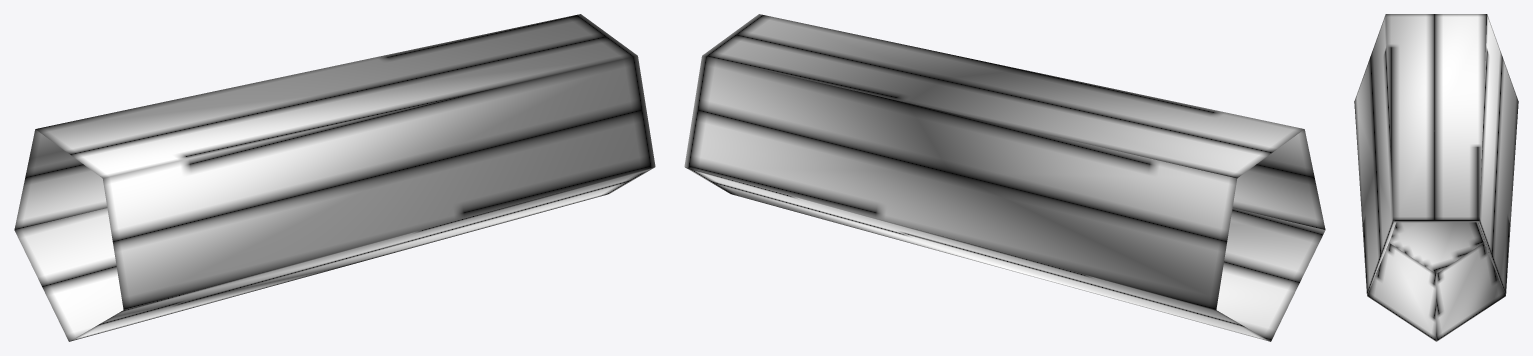
File: triebwerk_u.obj
3 renders of one model, left to right at view 1: azimuth 30°, elevation 25°; view 2: azimuth 150°, elevation 25°; view 3: azimuth 270°, elevation 25°, orthographic. The views are drawn at different scales.
Visible parts, largest first — view 1: cube1_sep66; view 2: cube1_sep66; view 3: cube1_sep66.
Boxes of the visible parts, x1,y1,x2,y2 form: cube1_sep66: (14, 14, 655, 341); cube1_sep66: (684, 14, 1325, 341); cube1_sep66: (1354, 14, 1518, 341).
Size of the model in its own units: 1.56 by 0.5208 by 0.5476.
1 material, 1 textured.
